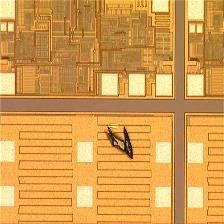PARTICLE: (103, 123, 137, 163)
